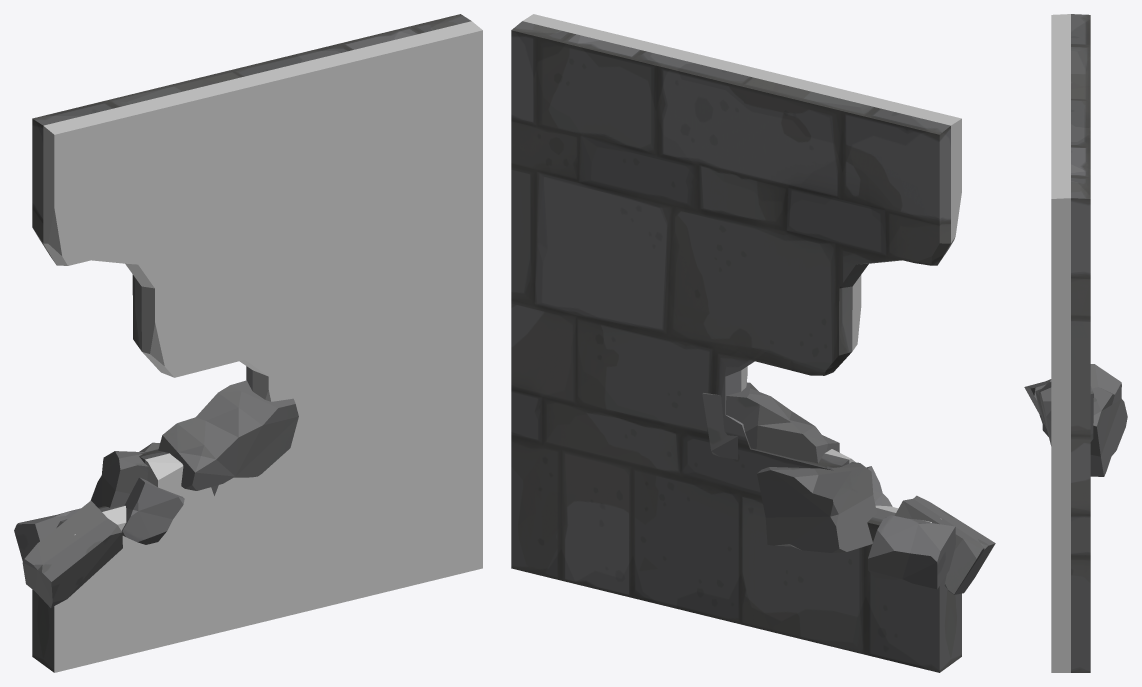
Rendered from SM_Bld_Wall_L_Damaged_07.fbx.
3 renders of one model, left to right at view 1: azimuth 30°, elevation 25°; view 2: azimuth 150°, elevation 25°; view 3: azimuth 270°, elevation 25°, orthographic. The views are drawn at different scales.
Visible parts, largest first — view 1: SM_Bld_Wall_L_Damaged_07; view 2: SM_Bld_Wall_L_Damaged_07; view 3: SM_Bld_Wall_L_Damaged_07.
Boxes of the visible parts, <box> form: SM_Bld_Wall_L_Damaged_07: <box>14,14,482,672</box>; SM_Bld_Wall_L_Damaged_07: <box>511,14,995,672</box>; SM_Bld_Wall_L_Damaged_07: <box>1024,14,1127,672</box>.
Bounding box in the file's own units: 529 × 601 × 119.
